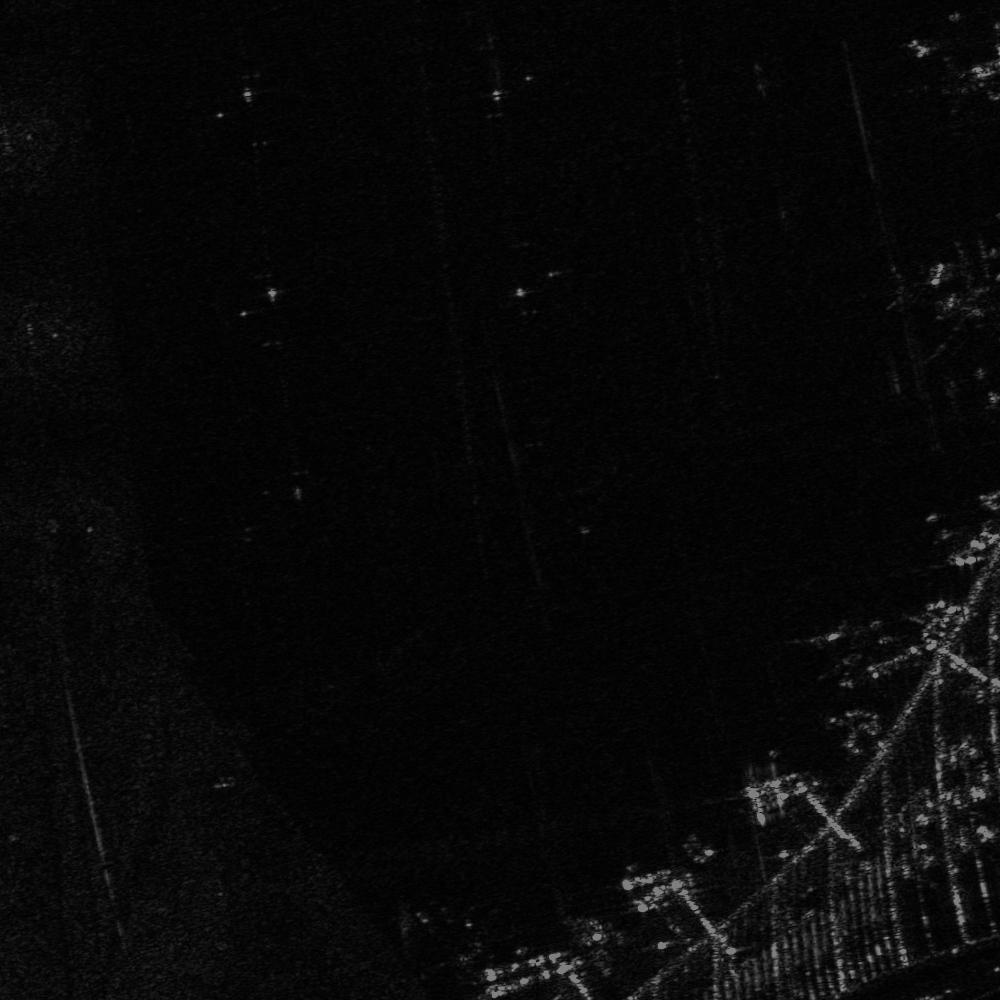A220: (807, 615, 859, 683)
